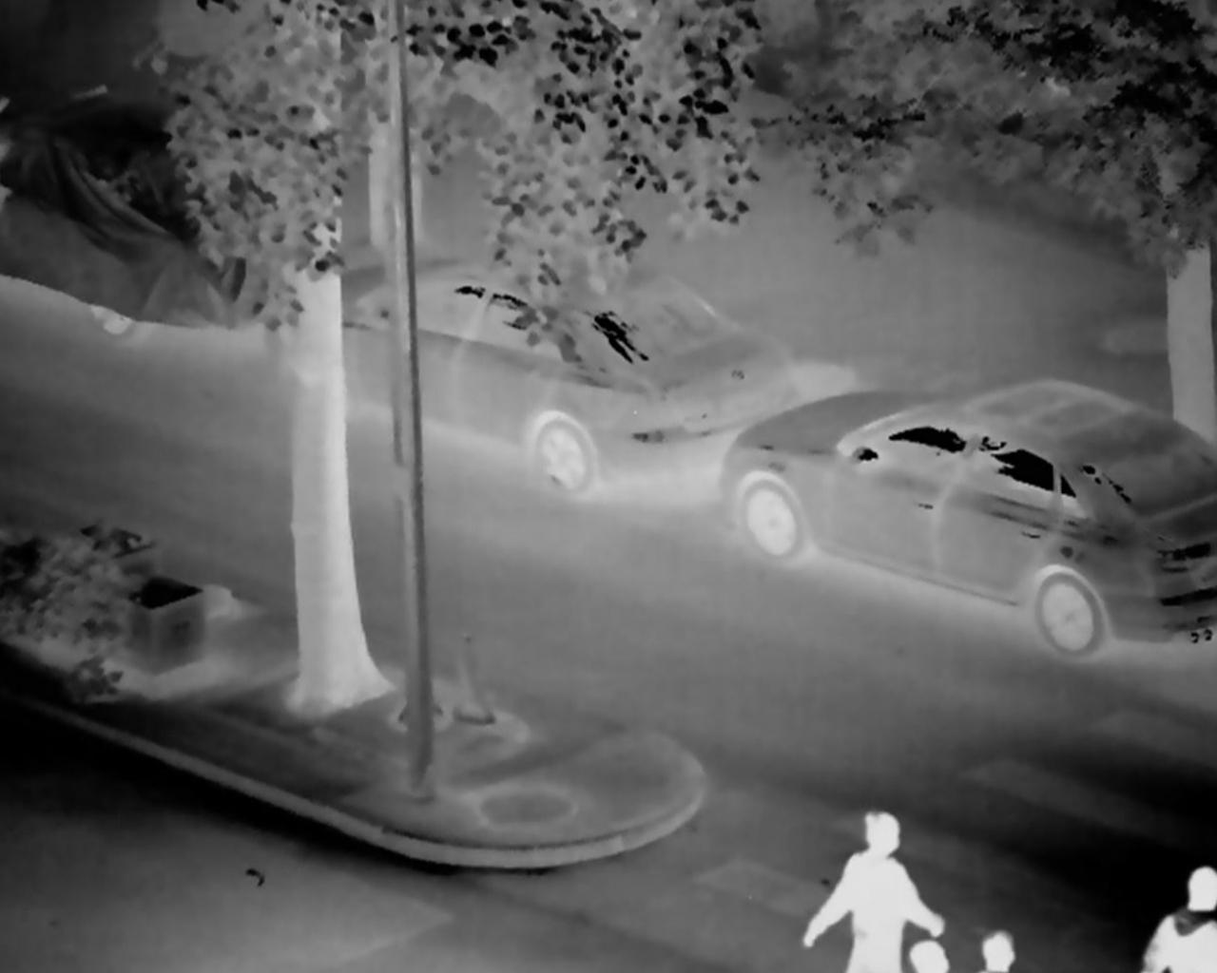person: (803, 811, 953, 973), (1144, 868, 1217, 973)
